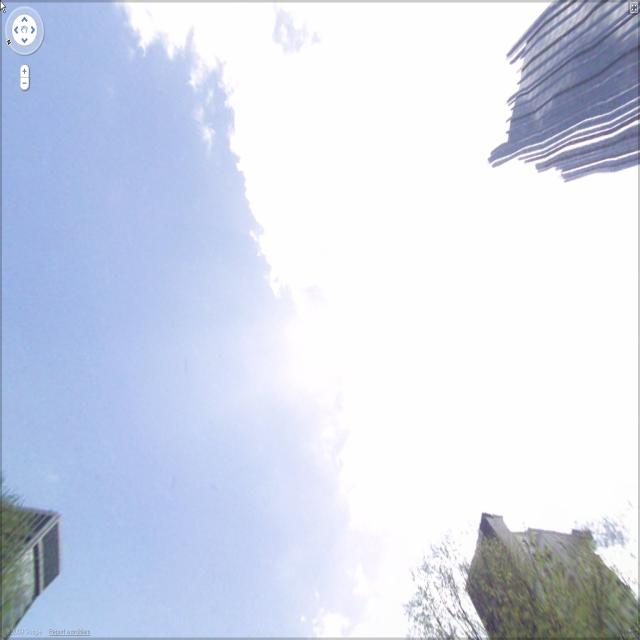b_1: (480, 22, 640, 170)
b_2: (414, 484, 626, 640), (0, 477, 90, 626)
